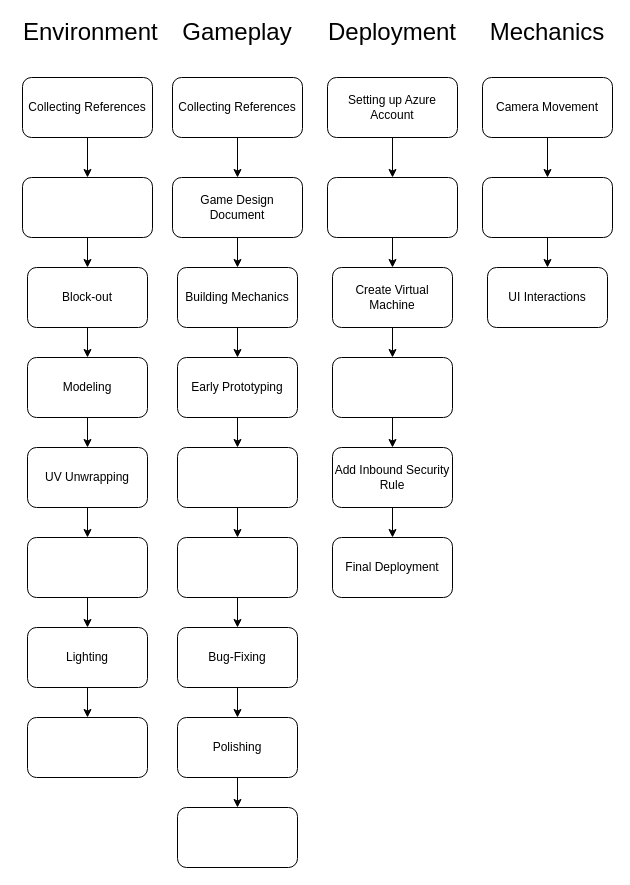
This 630x885 diagram has some shape labels left out. The shapes that lost their labels are listed below. From the top down, each one's centre as x and y in pixels, then its label:
the point at 87,207: Measurements/Scaling
the point at 392,207: Make Required Installations
the point at 547,207: Character Movement
the point at 392,387: Installing Required Drivers in VM
the point at 237,477: Setting up Environment
the point at 87,567: Texturing
the point at 237,567: Alpha-Testing
the point at 87,747: Detailing
the point at 237,837: Deployment Phase
